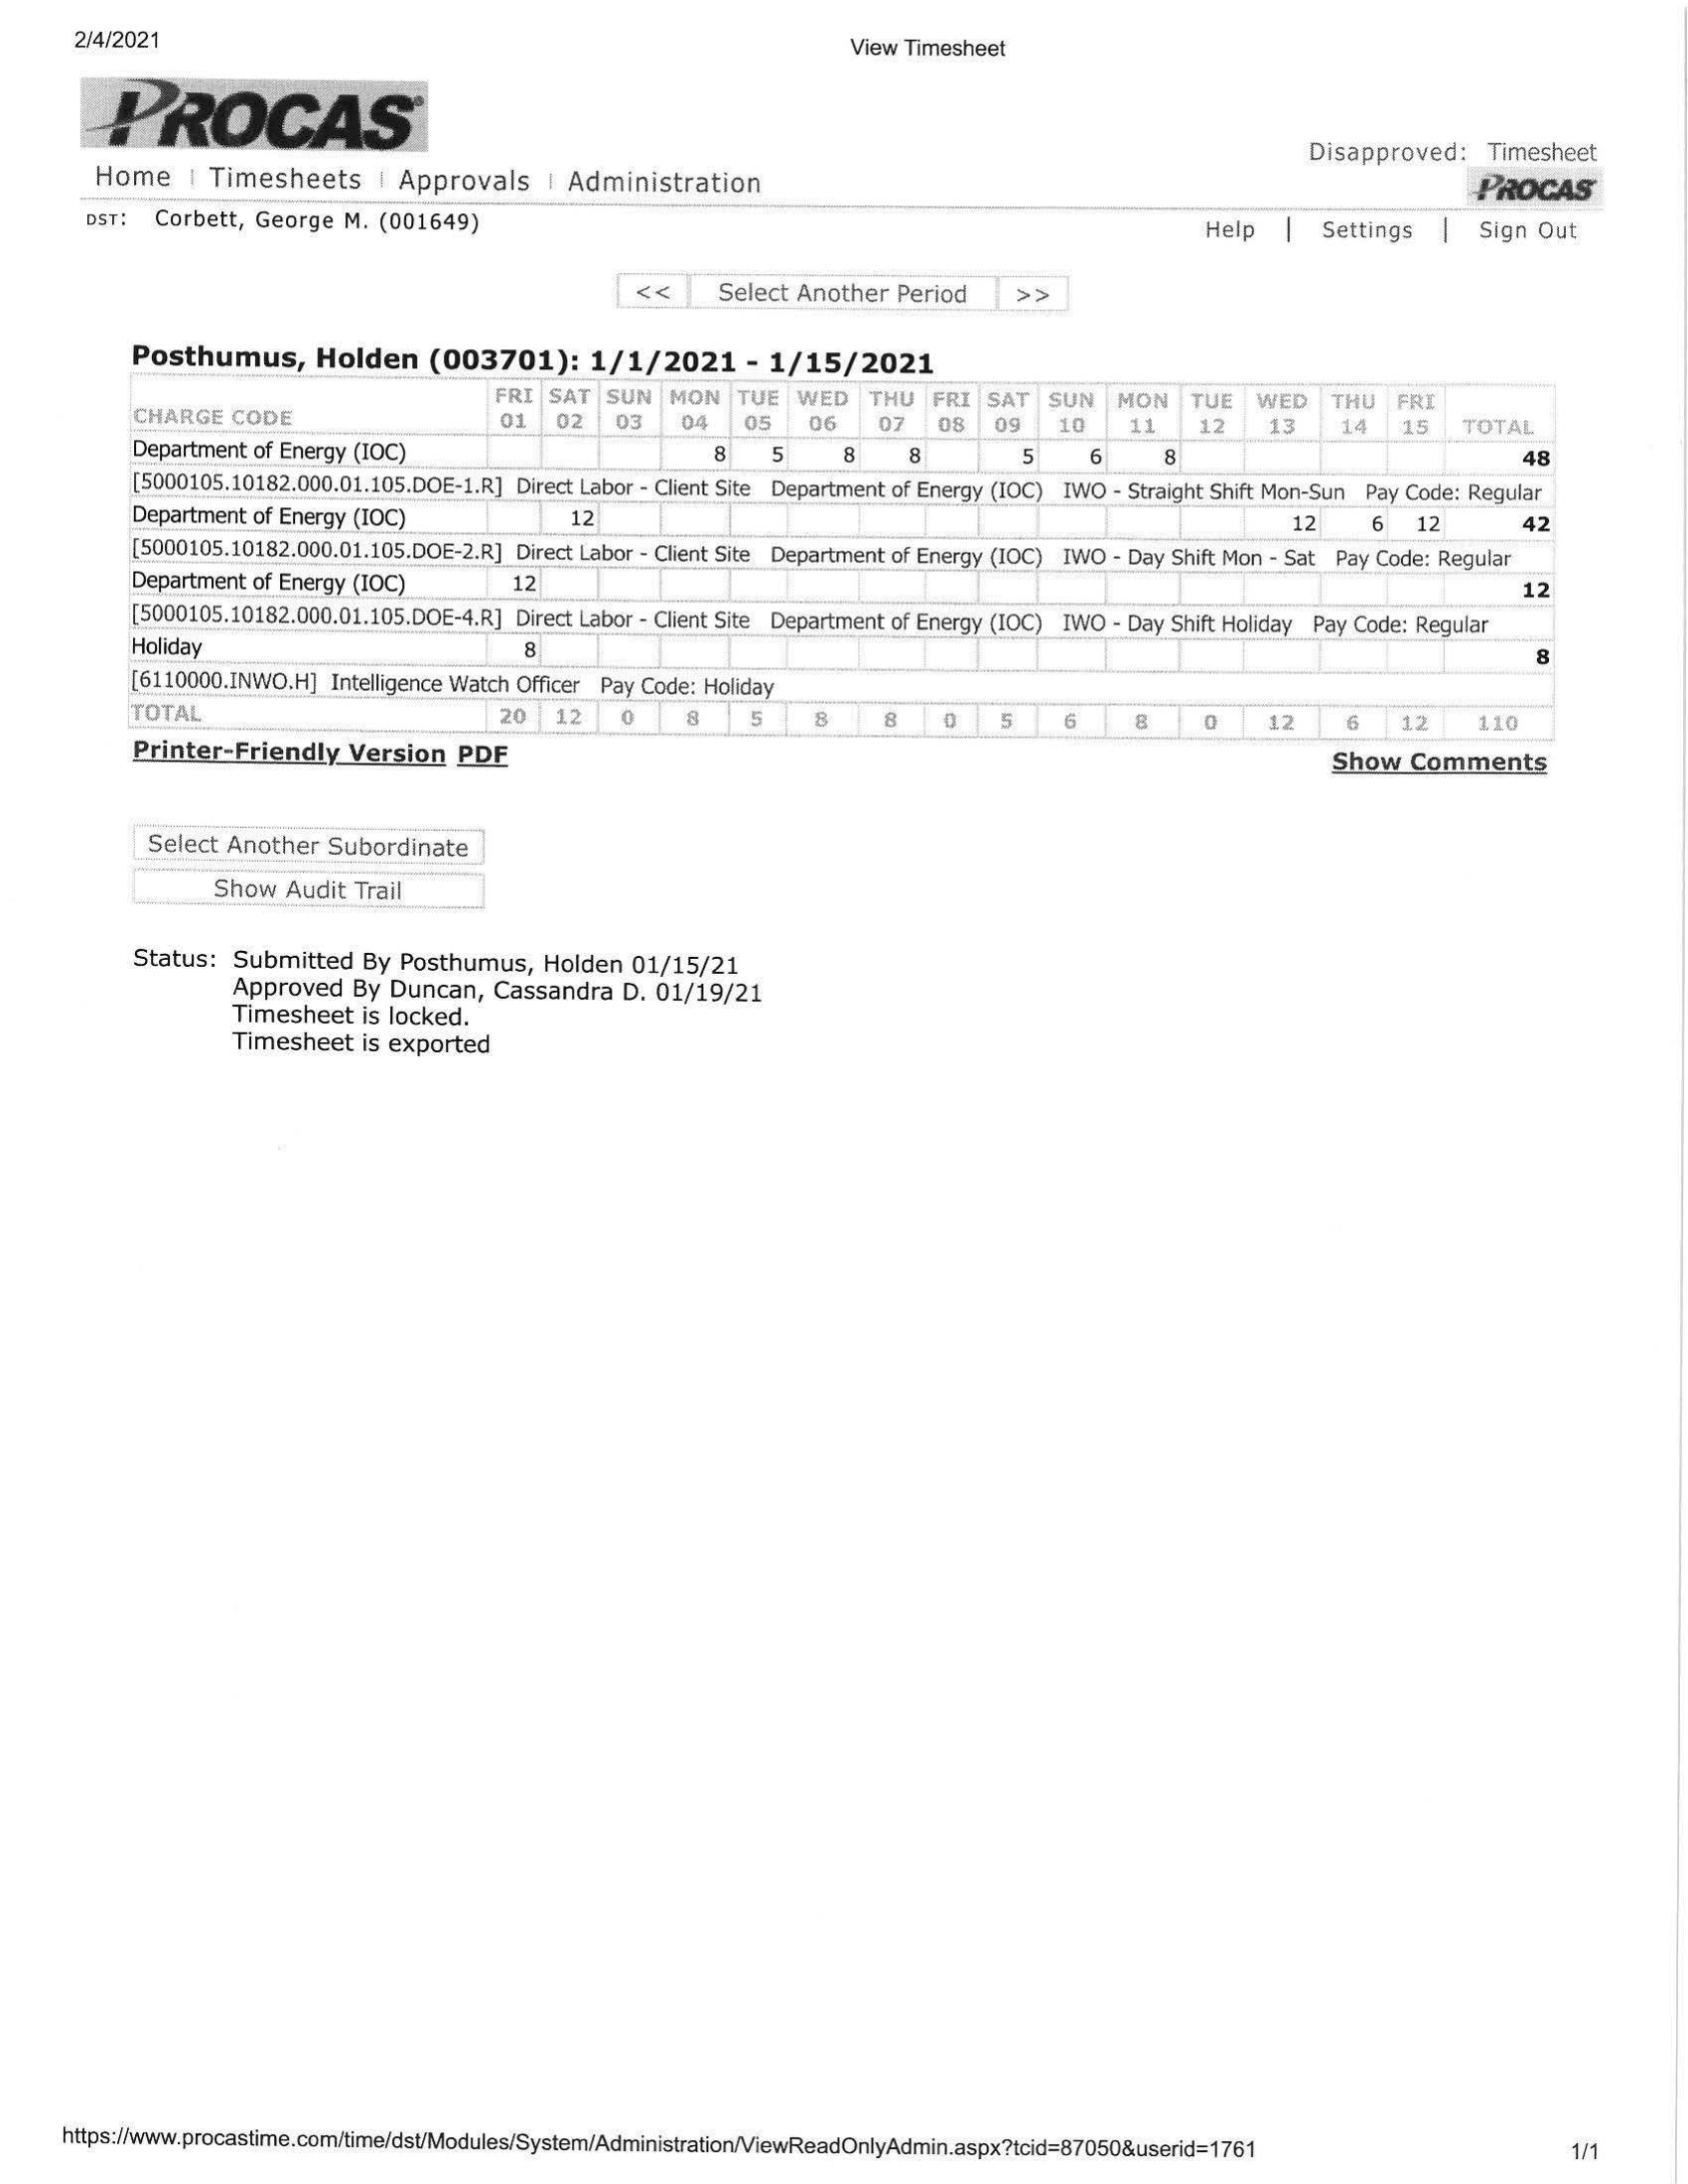table: (128, 369, 1585, 739)
